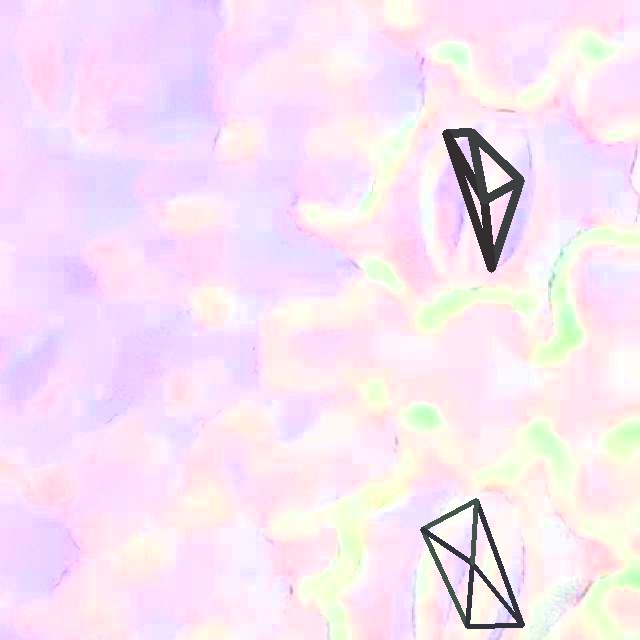open: (421, 498, 524, 628), (443, 128, 524, 272)
